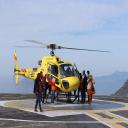helicopter: (10, 36, 87, 106)
